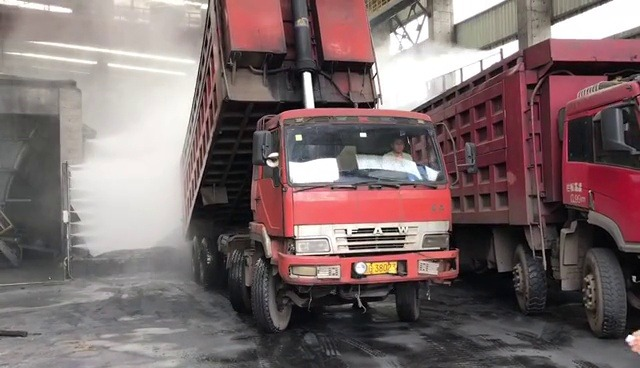dust: (12, 0, 210, 266), (361, 34, 514, 109)
truck: (174, 0, 451, 332), (442, 21, 639, 335)
